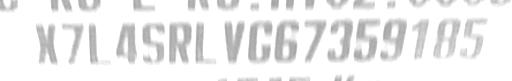letter: (456, 10, 490, 65), (82, 17, 116, 70), (352, 11, 382, 68), (431, 12, 463, 65), (378, 12, 408, 67), (58, 16, 88, 71), (272, 12, 300, 69), (220, 15, 248, 70), (326, 13, 354, 66), (300, 14, 328, 67), (246, 16, 274, 69), (32, 17, 60, 70), (140, 13, 166, 70), (193, 13, 219, 70), (167, 15, 193, 70), (114, 16, 140, 69), (408, 12, 430, 65)
